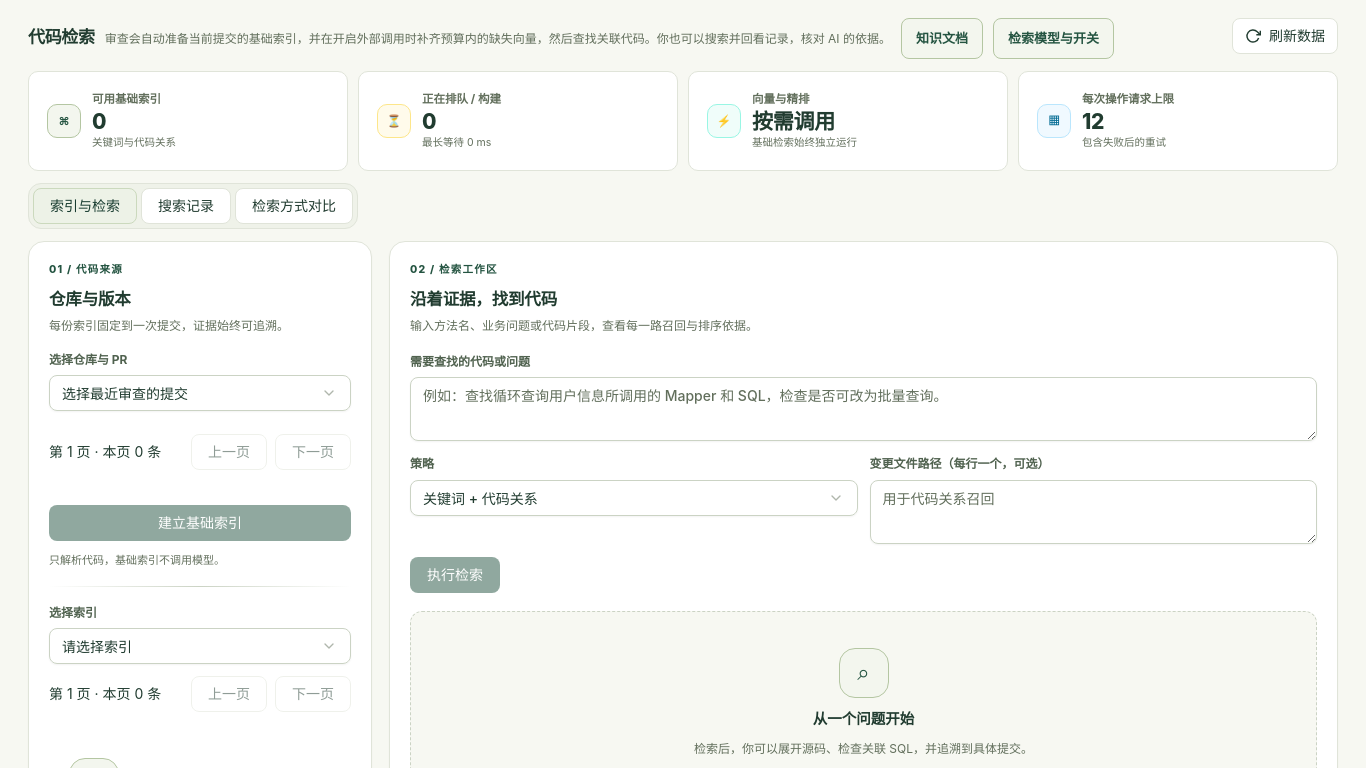
Test: 代码检索页面 › 无索引和无评测时明确展示未就绪状态
The width and height of the screenshot is (1366, 768).
Expected: the button "执行检索" is disabled, left=410, top=556, right=500, bottom=592
Click the button "检索方式对比" at [294, 206], box left=235, top=188, right=353, bottom=224
(page scrolled)
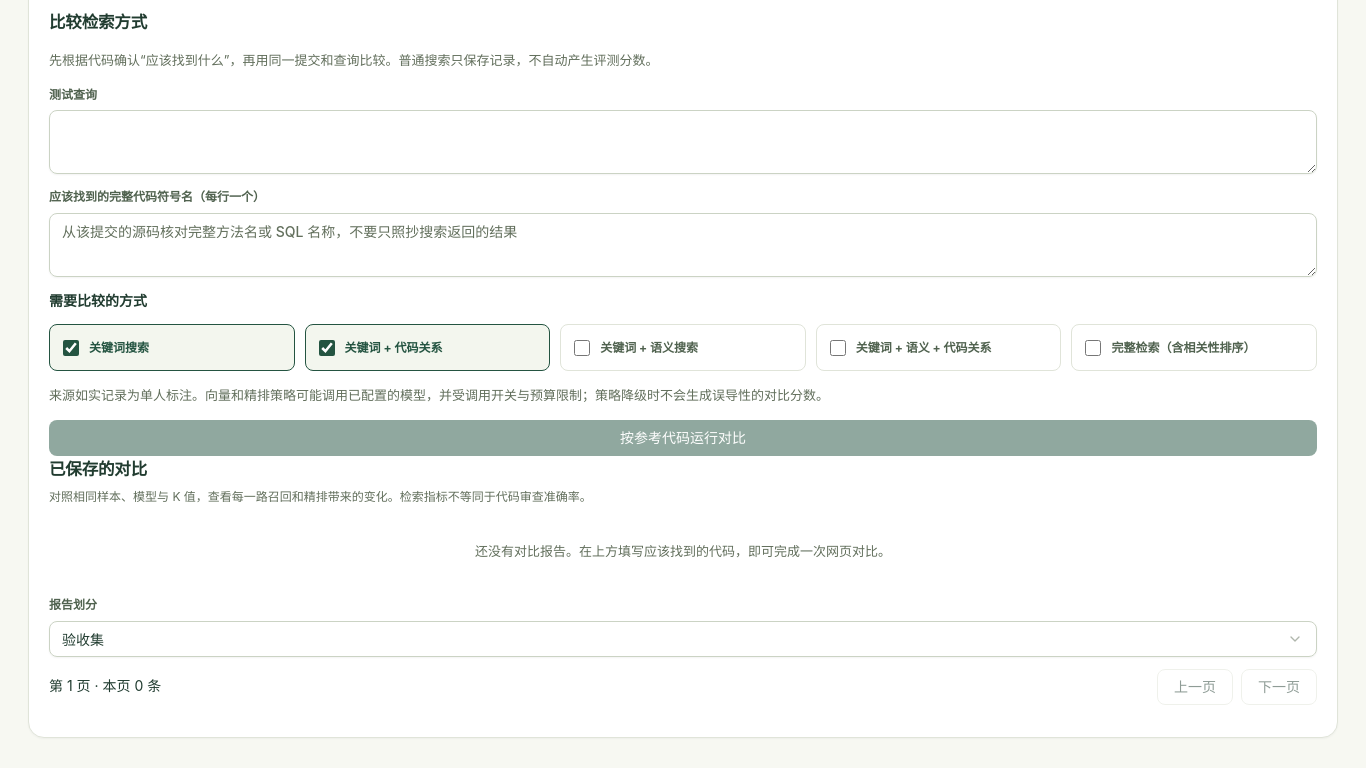
Expected: the text "还没有对比报告。在上方填写应该找到的代码，即可完成一次网页对比。" is shown, left=475, top=543, right=891, bottom=559
